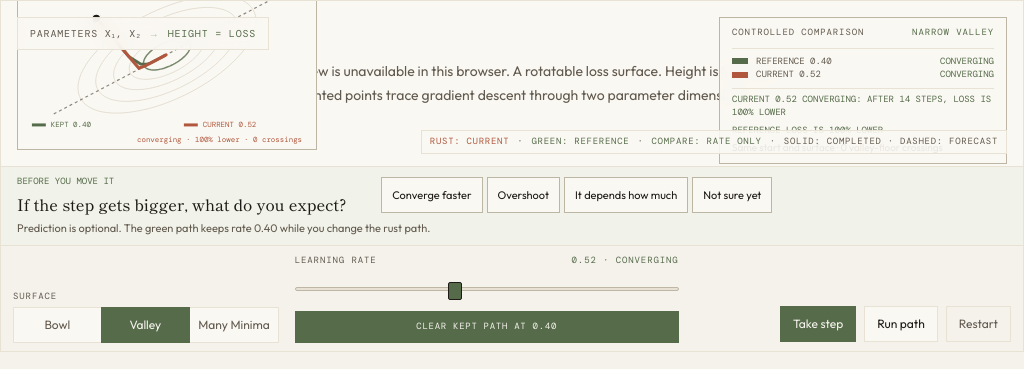
Test: GradientDescentScene › acknowledges the computed tested boundary after an unstable trial
Set the slider labelled "Learning rate" to "1.06" at coordinates (626, 289), box [295,271,679,307]
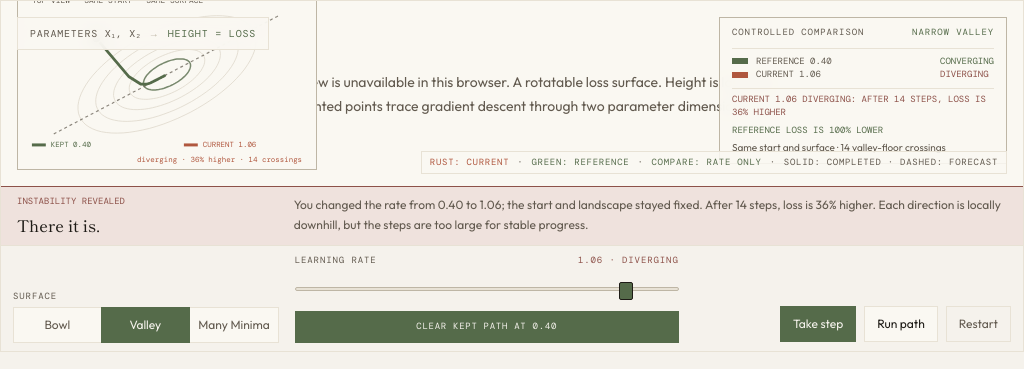
Set the slider labelled "Learning rate" to "1.04" at coordinates (620, 289), box [295,271,679,307]
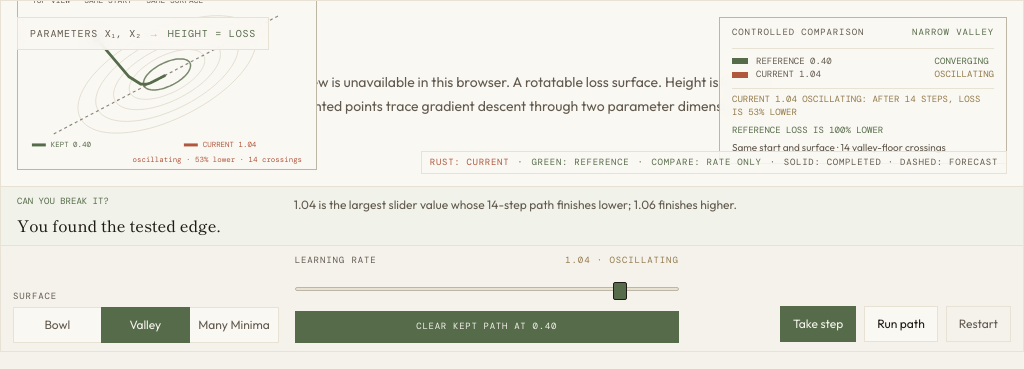
Result: the text "You found the tested edge." is shown at [17,212,221,236]
Result: the text "1.04 is the largest slider value" is shown at [294,197,737,212]
